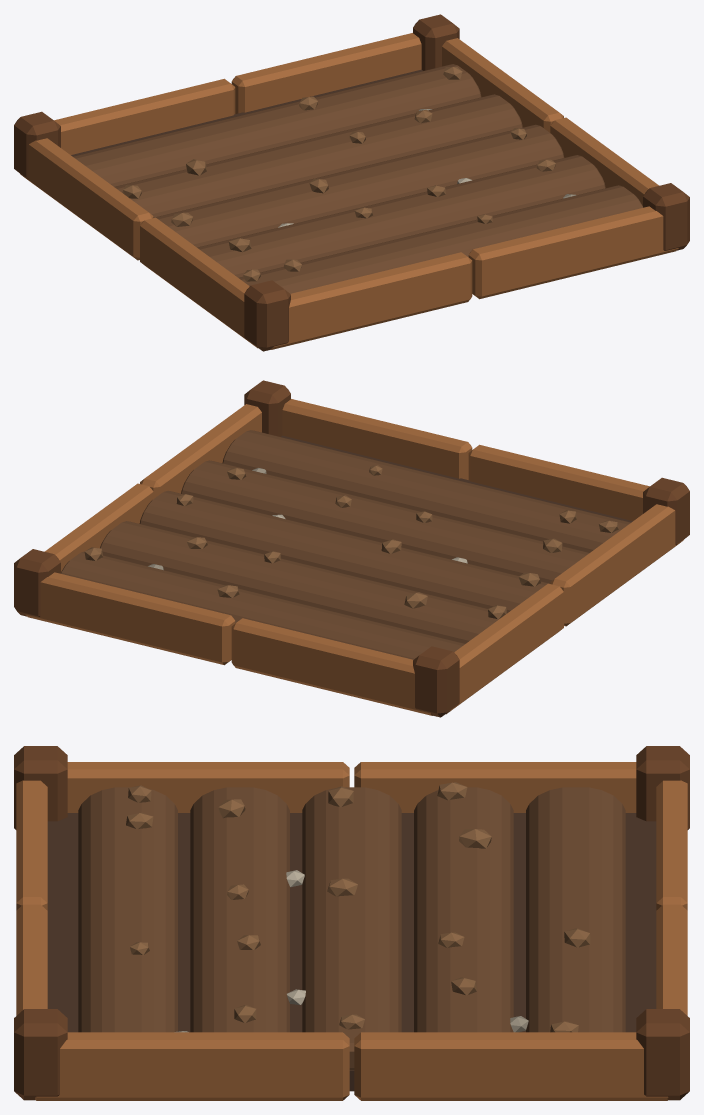
The model's file is soil.fbx.
3 views of the same model, one above another, from view 1: azimuth 30°, elevation 25°; view 2: azimuth 150°, elevation 25°; view 3: azimuth 270°, elevation 25° (orthographic). The views are drawn at different scales.
Parts seen in each view (by area): view 1: SM_SoilPlot; view 2: SM_SoilPlot; view 3: SM_SoilPlot.
Boxes of the visible parts, x1=… form: SM_SoilPlot: x1=14, y1=14, x2=689, y2=351; SM_SoilPlot: x1=14, y1=380, x2=689, y2=717; SM_SoilPlot: x1=14, y1=746, x2=689, y2=1100.
Bounding box in the file's own units: 3.02 × 0.38 × 3.02.
